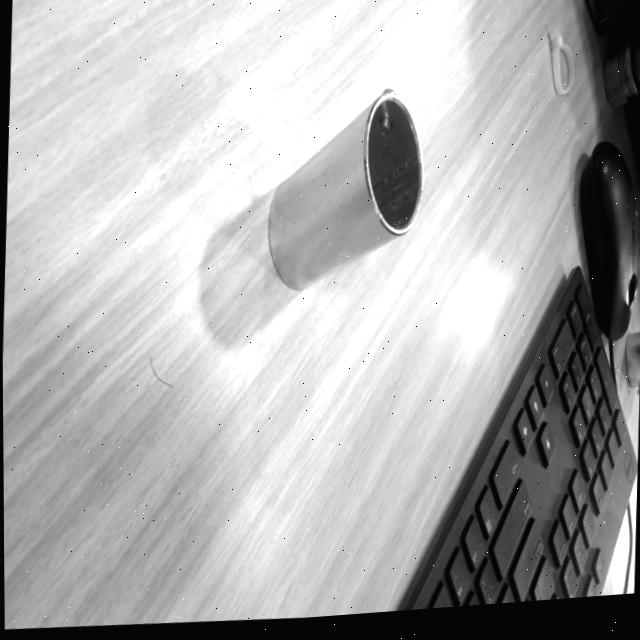Co_Lon: (232, 84, 468, 317)
